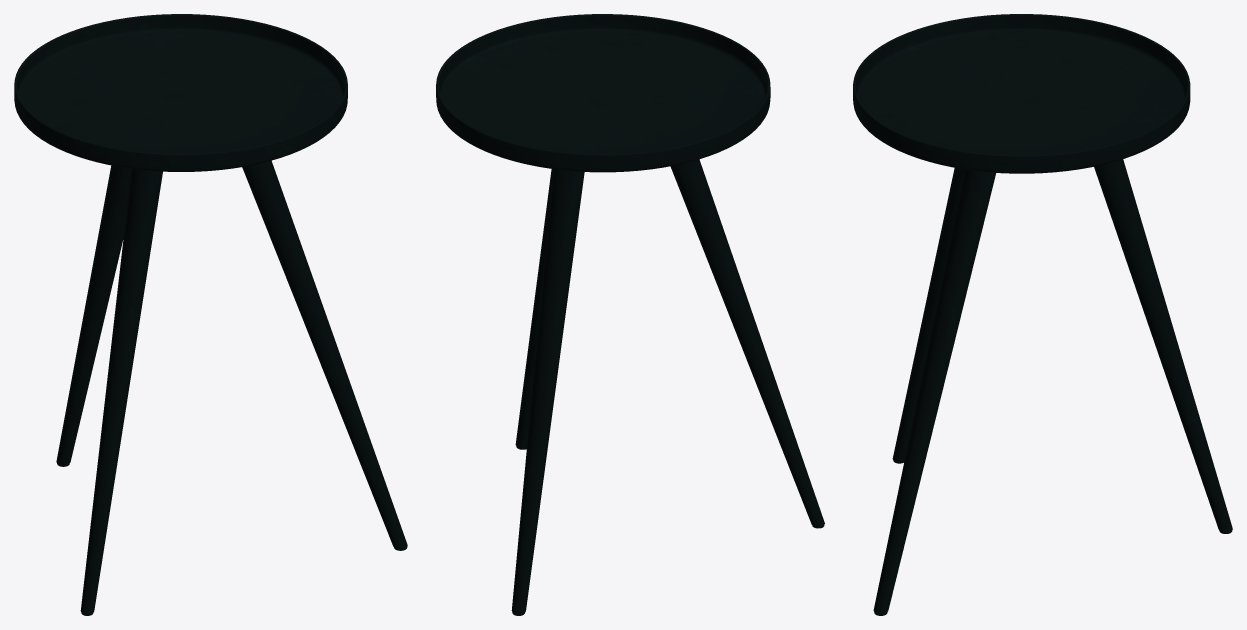
Rendered from table_B07B7J5XSQ.glb.
3 views of the same model, side by side, from view 1: azimuth 30°, elevation 25°; view 2: azimuth 150°, elevation 25°; view 3: azimuth 270°, elevation 25° (orthographic).
Visible parts, largest first — view 1: RootNode; view 2: RootNode; view 3: RootNode.
Boxes of the visible parts, <box> form: RootNode: <box>14,14,407,615</box>; RootNode: <box>436,14,824,615</box>; RootNode: <box>853,14,1232,615</box>.
Bounding box in the file's own units: 0.4027 × 0.5483 × 0.4147.
1 material, 1 textured.
